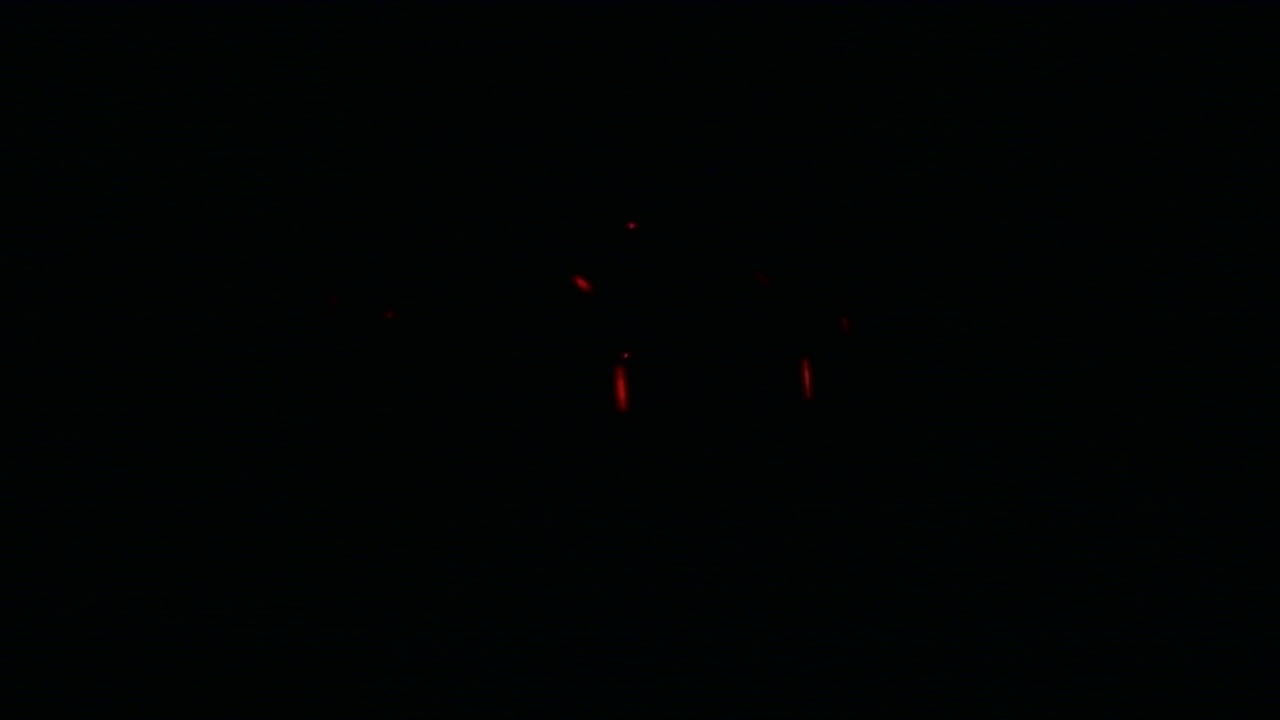lamp: (799, 360, 816, 409), (613, 362, 626, 409)
pair2: (613, 362, 816, 409)
